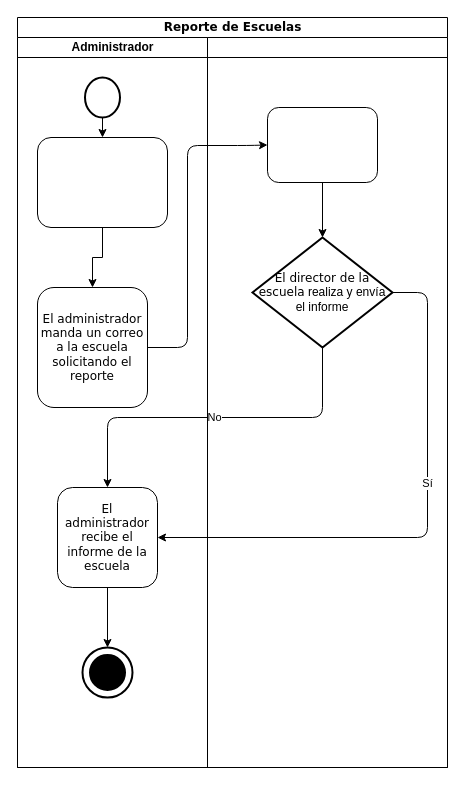
The diagram is 465 pixels wide and 785 high, and some of its shapes have lost their labels. The shapes that lost their labels are listed below. From the top down, each one's box as (x1, y1, x2, y2) in pixels, then its label:
(266, 106, 378, 182): El director de la escuela recibe el correo con la petición del informe
(36, 136, 168, 228): El administrador requiere un informe de la escuela para la demanda
(206, 36, 448, 768): Director de cada Escuela
